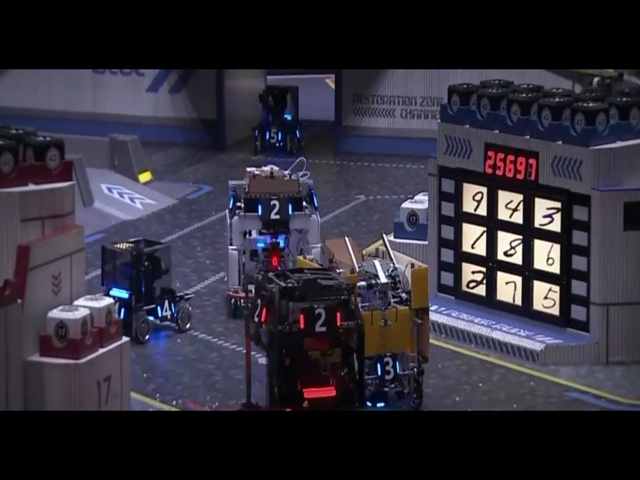plate: (295, 307, 343, 338), (252, 199, 296, 221), (249, 292, 272, 328), (111, 289, 131, 323), (375, 356, 402, 379), (154, 297, 179, 319), (263, 126, 284, 148)
